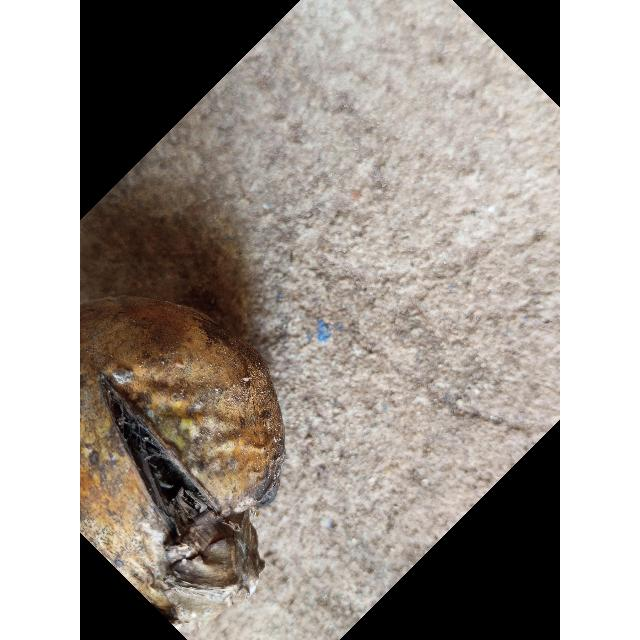damaged: (80, 297, 285, 624)
